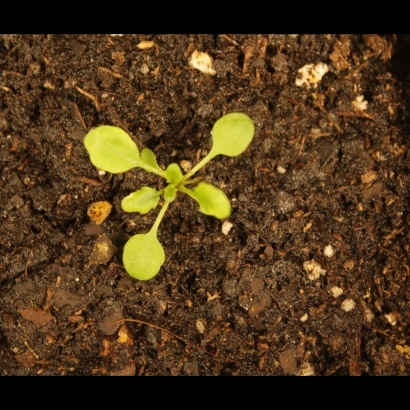leaf: (79, 114, 144, 177), (206, 105, 259, 161), (122, 231, 170, 281), (188, 179, 240, 225), (116, 186, 169, 218), (140, 147, 166, 173), (162, 161, 187, 187)
